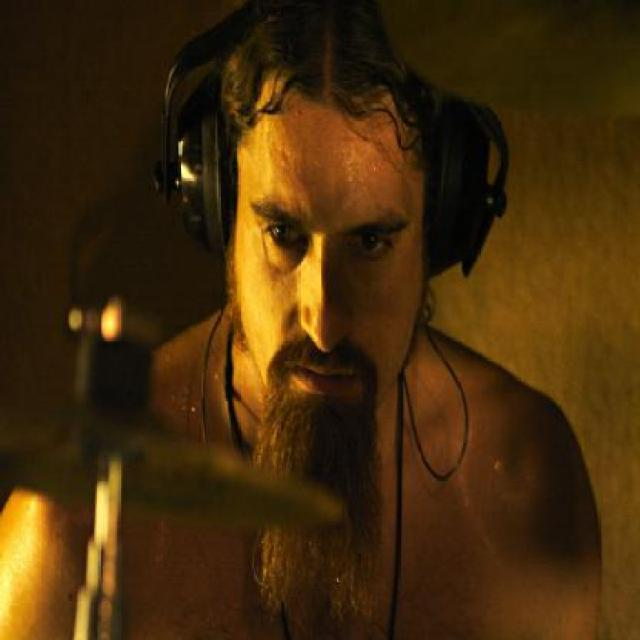earphone: (158, 14, 548, 254)
